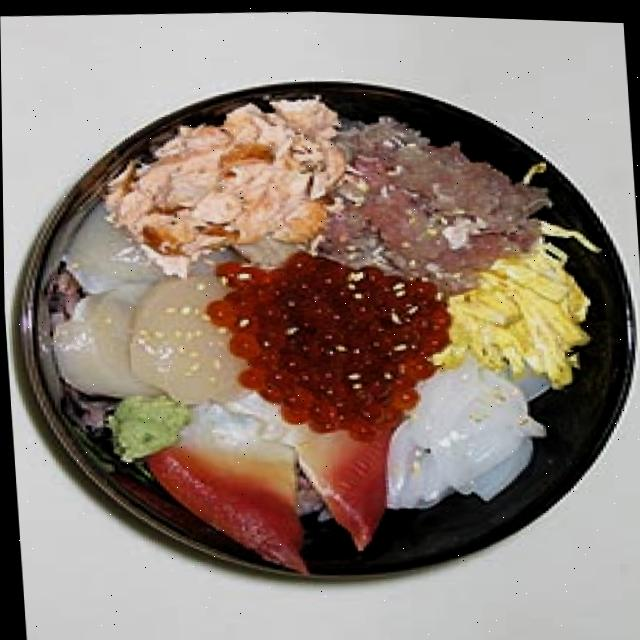刺身生食: (1, 52, 640, 609)
